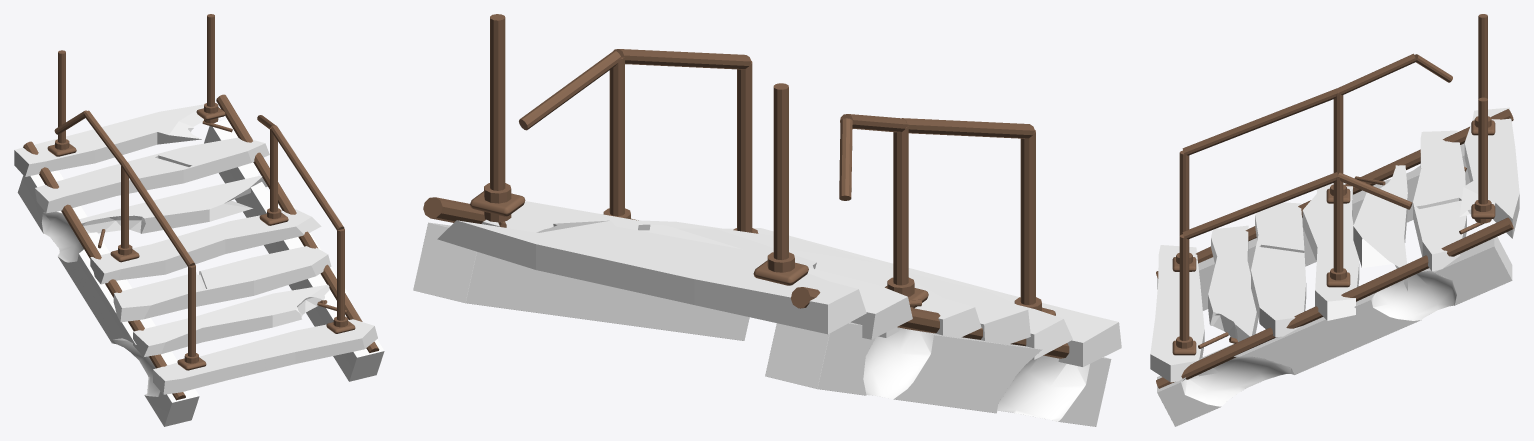
File: stairs_v8.glb
3 views of the same model, side by side, from view 1: azimuth 30°, elevation 25°; view 2: azimuth 150°, elevation 25°; view 3: azimuth 270°, elevation 25° (orthographic). The views are drawn at different scales.
Visible parts, largest first — view 1: irregular fractured stair tread 2, V7 concrete staircase support spine, irregular fractured stair tread 5, irregular fractured stair tread 0, irregular fractured stair tread 3, irregular fractured stair tread 1, irregular fractured stair tread 6, irregular fractured stair tread 4, V7 concrete staircase support spine.001, slim diagonal stair stringer.001, slim diagonal stair stringer, V6 railing attached segment A.001 (+8 smaller); view 2: V7 concrete staircase support spine, irregular fractured stair tread 6, V7 concrete staircase support spine.001, irregular fractured stair tread 5, irregular fractured stair tread 2, irregular fractured stair tread 0, irregular fractured stair tread 3, V6 anchored handrail post.005, V6 anchored handrail post.002, V6 anchored handrail post, V6 anchored handrail post.003, V6 anchored handrail post.001 (+12 smaller); view 3: V7 concrete staircase support spine.001, irregular fractured stair tread 2, irregular fractured stair tread 5, irregular fractured stair tread 0, irregular fractured stair tread 1, irregular fractured stair tread 3, irregular fractured stair tread 6, irregular fractured stair tread 4, slim diagonal stair stringer.001, V7 concrete staircase support spine, V6 railing attached segment A.001, V6 railing attached segment A (+10 smaller).
Boxes of the visible parts, <box> form: irregular fractured stair tread 2: <box>113,246,331,322</box>; V7 concrete staircase support spine: <box>17,170,199,426</box>; irregular fractured stair tread 5: <box>35,137,269,213</box>; irregular fractured stair tread 0: <box>153,319,377,394</box>; irregular fractured stair tread 3: <box>90,209,321,284</box>; irregular fractured stair tread 1: <box>133,284,329,356</box>; irregular fractured stair tread 6: <box>14,104,204,176</box>; irregular fractured stair tread 4: <box>79,175,267,233</box>; V7 concrete staircase support spine.001: <box>204,119,384,381</box>; slim diagonal stair stringer.001: <box>216,94,379,352</box>; slim diagonal stair stringer: <box>23,141,185,400</box>; V6 railing attached segment A.001: <box>271,125,344,229</box>; V7 concrete staircase support spine: <box>765,322,1111,426</box>; irregular fractured stair tread 6: <box>437,220,866,334</box>; V7 concrete staircase support spine.001: <box>413,222,749,340</box>; irregular fractured stair tread 5: <box>481,201,912,339</box>; irregular fractured stair tread 2: <box>643,220,1030,345</box>; irregular fractured stair tread 0: <box>724,228,1121,366</box>; irregular fractured stair tread 3: <box>601,214,981,337</box>; V6 anchored handrail post.005: <box>490,14,505,190</box>; V6 anchored handrail post.002: <box>773,83,788,259</box>; V6 anchored handrail post: <box>1020,130,1035,304</box>; V6 anchored handrail post.003: <box>737,61,752,232</box>; V6 anchored handrail post.001: <box>893,126,908,285</box>; V7 concrete staircase support spine.001: <box>1157,237,1512,426</box>; irregular fractured stair tread 2: <box>1251,202,1306,337</box>; irregular fractured stair tread 5: <box>1413,130,1466,271</box>; irregular fractured stair tread 0: <box>1150,245,1204,382</box>; irregular fractured stair tread 1: <box>1208,225,1257,341</box>; irregular fractured stair tread 3: <box>1302,182,1359,320</box>; irregular fractured stair tread 6: <box>1459,107,1519,238</box>; irregular fractured stair tread 4: <box>1353,165,1407,290</box>; slim diagonal stair stringer.001: <box>1156,217,1513,388</box>; V7 concrete staircase support spine: <box>1157,143,1470,310</box>; V6 railing attached segment A.001: <box>1182,172,1338,239</box>; V6 railing attached segment A: <box>1182,88,1338,155</box>.
Size of the model in its own units: 1.7 by 1.86 by 2.01.
